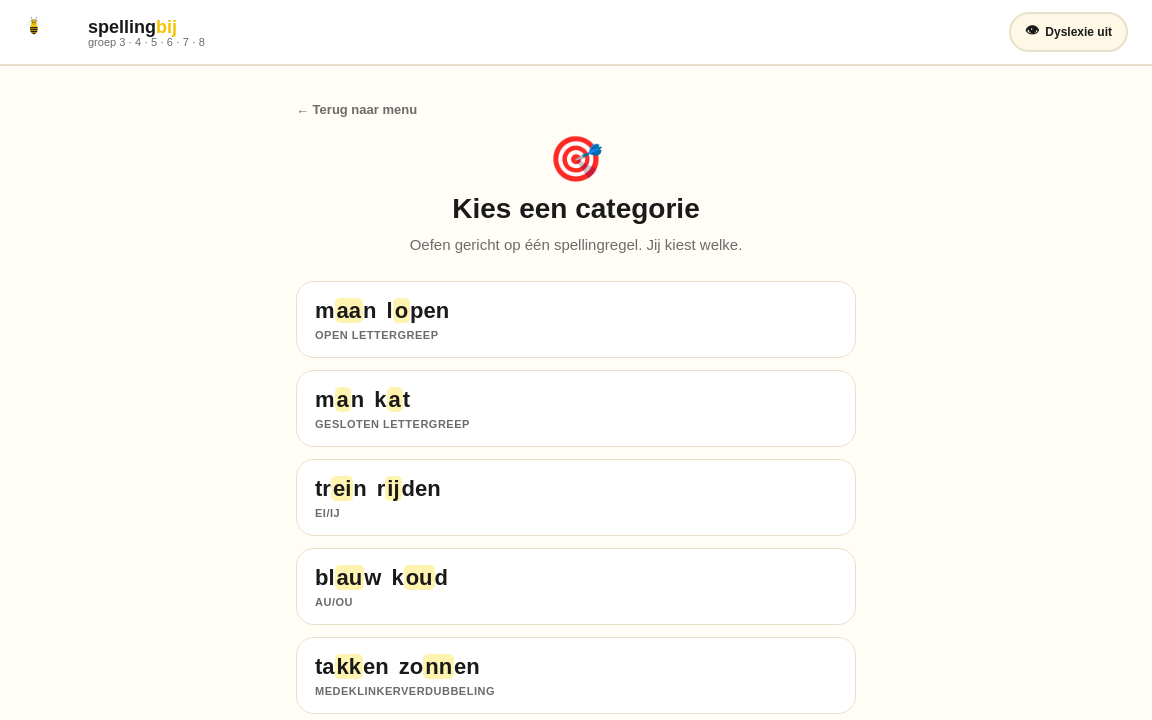
Test: een fout woord uit de vorige sessie staat vooraan bij de volgende keuze van diezelfde categorie
The image size is (1152, 720).
Click the text "au/ou" at (334, 602), box [315, 596, 353, 608]
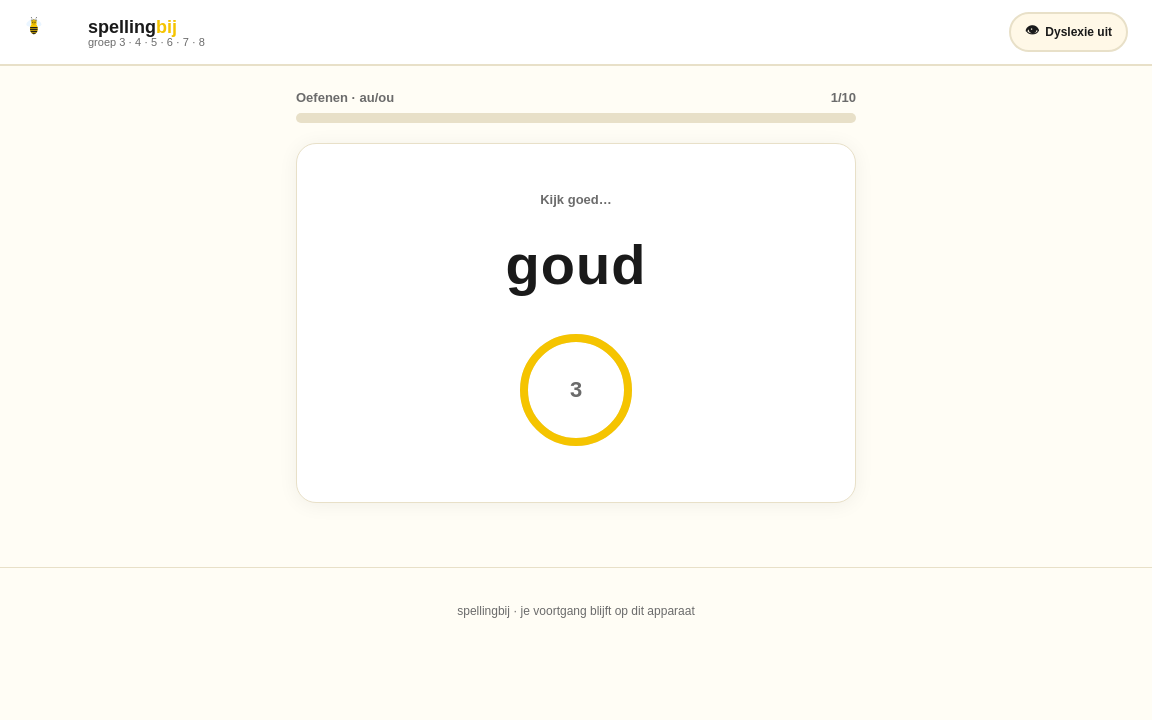
Now the text "goud" is shown, box [506, 233, 646, 296]
